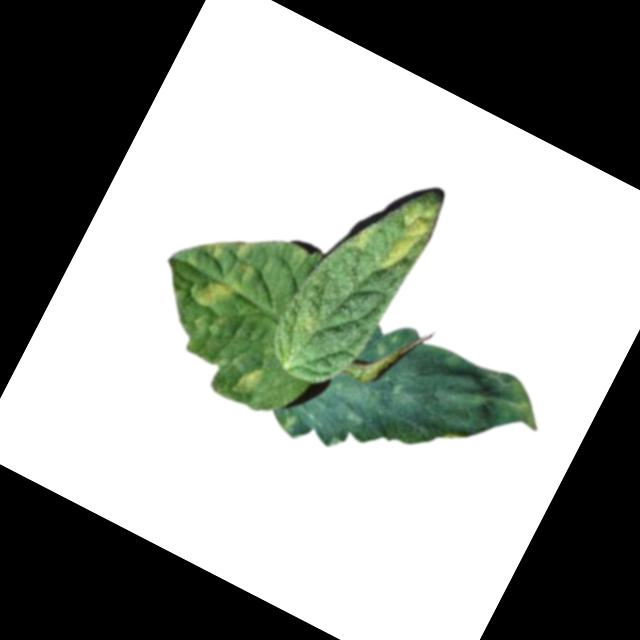Leaf_Mold: (270, 288, 556, 535), (369, 192, 443, 282), (191, 272, 238, 317), (232, 360, 272, 405)
